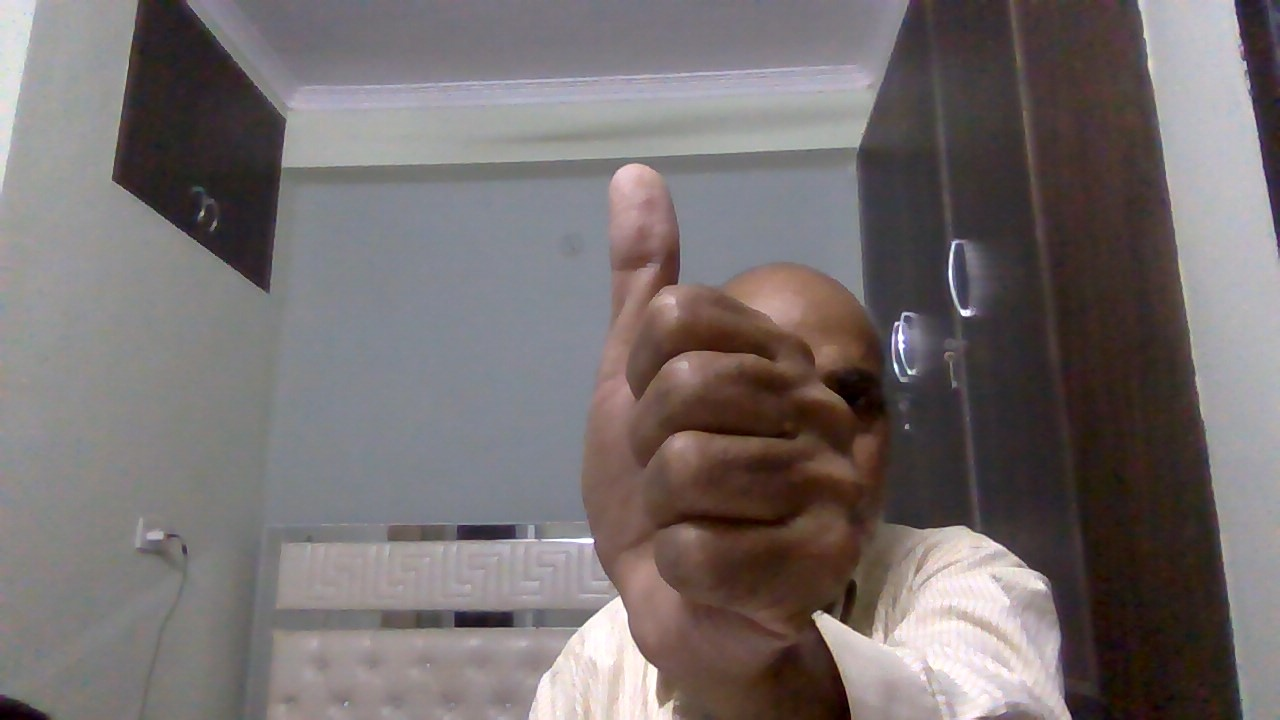Save: (560, 148, 885, 687)
